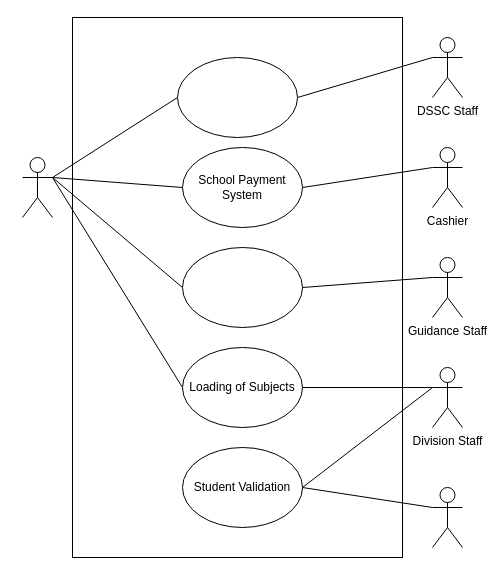
Some shapes in this 504 by 586 pixel diagram are drawn without their labels. The centre of each missing label's shape, as x and y in pixels:
Registrar: the point at 447,517
Student: the point at 37,187
Student Evaluation/Monitoring: the point at 242,287
Student Registration: the point at 237,97
